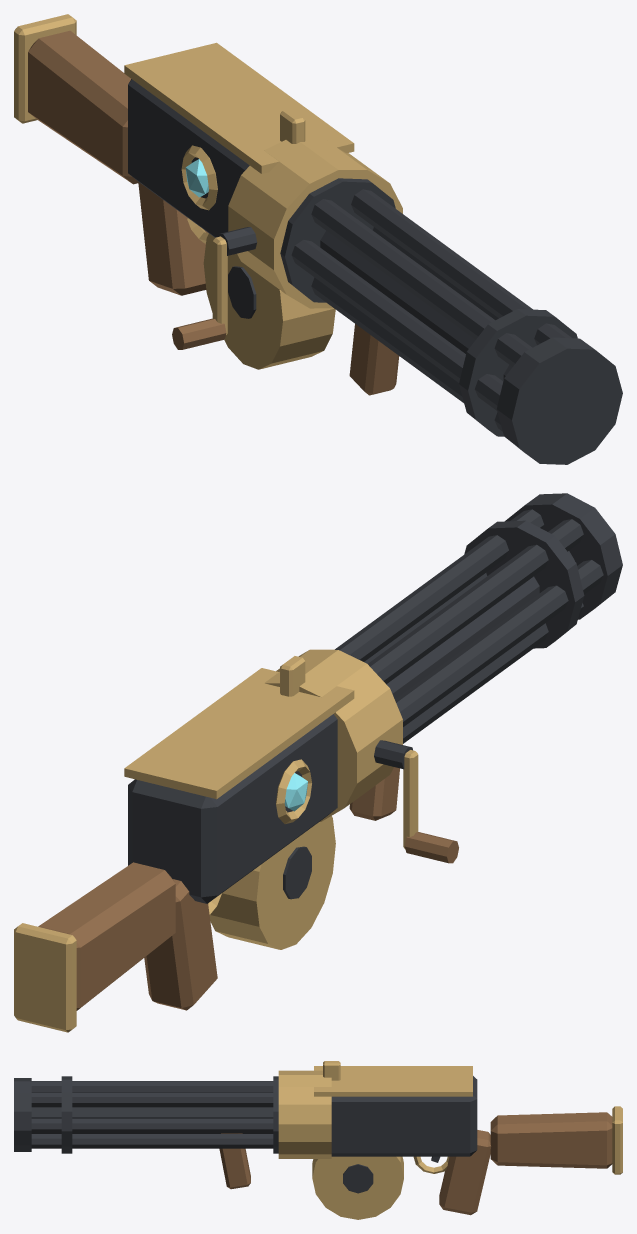
Rendered from Mitrailleuse_Manivelle.fbx.
3 views of the same model, one above another, from view 1: azimuth 30°, elevation 25°; view 2: azimuth 150°, elevation 25°; view 3: azimuth 270°, elevation 25° (orthographic). The views are drawn at different scales.
Visible parts, largest first — view 1: Mitrailleuse_Manivelle_RouageCanons, Mitrailleuse_Manivelle_Laiton, Mitrailleuse_Manivelle_Bois, Mitrailleuse_Manivelle_Metal, Mitrailleuse_Manivelle_Noyau; view 2: Mitrailleuse_Manivelle_Laiton, Mitrailleuse_Manivelle_RouageCanons, Mitrailleuse_Manivelle_Metal, Mitrailleuse_Manivelle_Bois; view 3: Mitrailleuse_Manivelle_RouageCanons, Mitrailleuse_Manivelle_Laiton, Mitrailleuse_Manivelle_Bois, Mitrailleuse_Manivelle_Metal.
Boxes of the visible parts, x1,y1,x2,y2 form: Mitrailleuse_Manivelle_RouageCanons: (280, 178, 622, 464); Mitrailleuse_Manivelle_Laiton: (14, 14, 402, 369); Mitrailleuse_Manivelle_Bois: (28, 30, 399, 395); Mitrailleuse_Manivelle_Metal: (128, 79, 257, 318); Mitrailleuse_Manivelle_Noyau: (185, 159, 208, 197); Mitrailleuse_Manivelle_Laiton: (14, 649, 418, 1032); Mitrailleuse_Manivelle_RouageCanons: (335, 493, 622, 743); Mitrailleuse_Manivelle_Metal: (128, 714, 412, 903); Mitrailleuse_Manivelle_Bois: (38, 767, 458, 1010); Mitrailleuse_Manivelle_RouageCanons: (14, 1076, 278, 1153); Mitrailleuse_Manivelle_Laiton: (278, 1061, 622, 1219); Mitrailleuse_Manivelle_Bois: (219, 1112, 612, 1215); Mitrailleuse_Manivelle_Metal: (331, 1076, 477, 1193).
Bounding box in the file's own units: 76.37 × 94 × 345.
